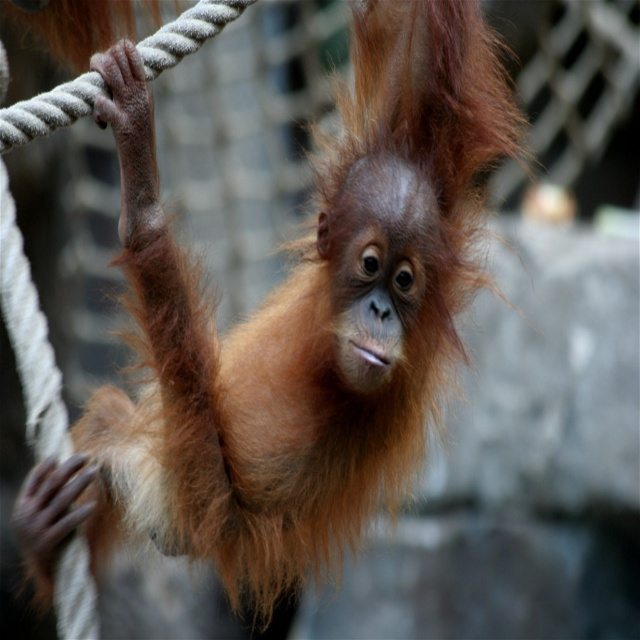Monkey: (12, 0, 554, 639)
